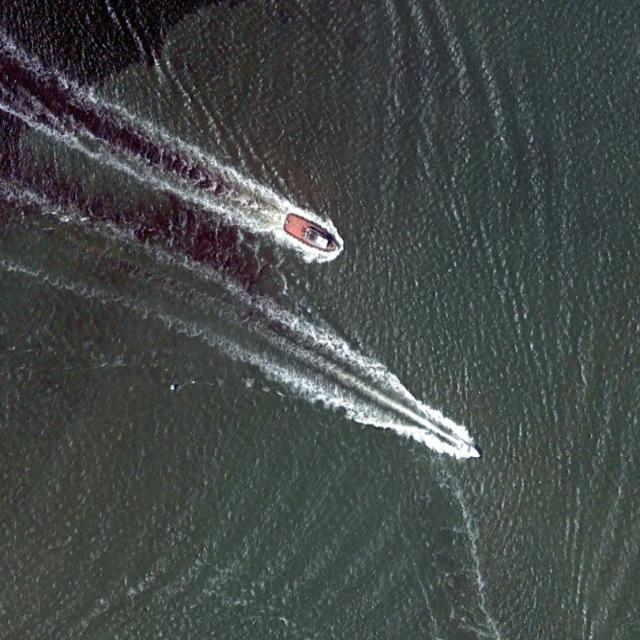Hovercraft: (280, 209, 342, 257)
